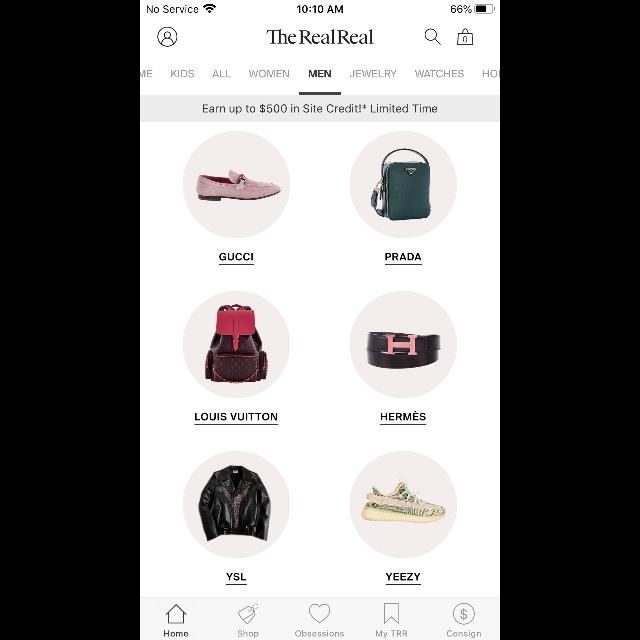icon: (158, 27, 178, 47), (454, 604, 474, 624), (238, 604, 258, 624), (166, 604, 187, 622), (310, 604, 330, 622), (384, 602, 398, 624), (457, 29, 473, 45), (425, 29, 441, 45)
image: (198, 466, 270, 540), (206, 304, 268, 384), (371, 148, 431, 220), (361, 478, 445, 524), (366, 332, 440, 368), (196, 170, 280, 200)
text: (203, 104, 437, 115), (266, 30, 374, 44), (195, 413, 277, 421), (381, 412, 425, 421), (415, 70, 463, 78), (349, 70, 396, 78), (249, 70, 289, 78), (296, 630, 344, 636), (447, 630, 481, 638), (220, 253, 252, 261), (385, 253, 421, 260), (376, 630, 406, 638), (386, 574, 420, 580), (172, 70, 194, 78), (226, 573, 246, 581), (238, 630, 258, 638), (164, 630, 188, 636), (309, 70, 331, 76), (213, 70, 231, 76)
uppertaskbar: (140, 0, 500, 14)
